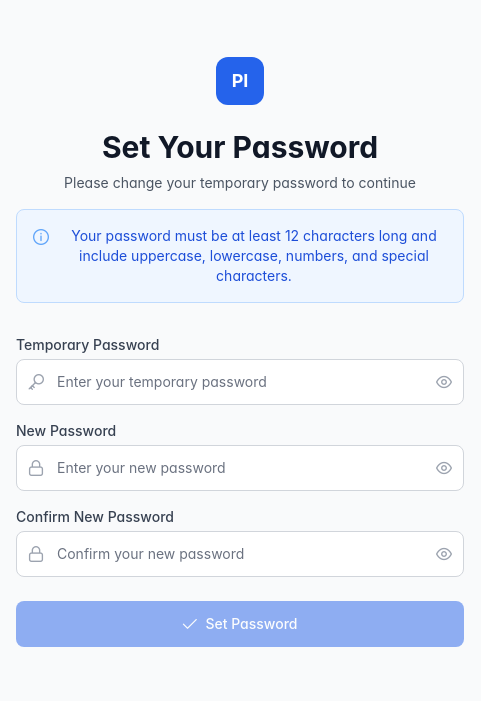
Scenario: SetPasswordView › Form Validation › should show error when passwords do not match
Type "NewPassword123!@#" into the password field with id "newPassword" at point(240, 468), box [16,445,464,491]
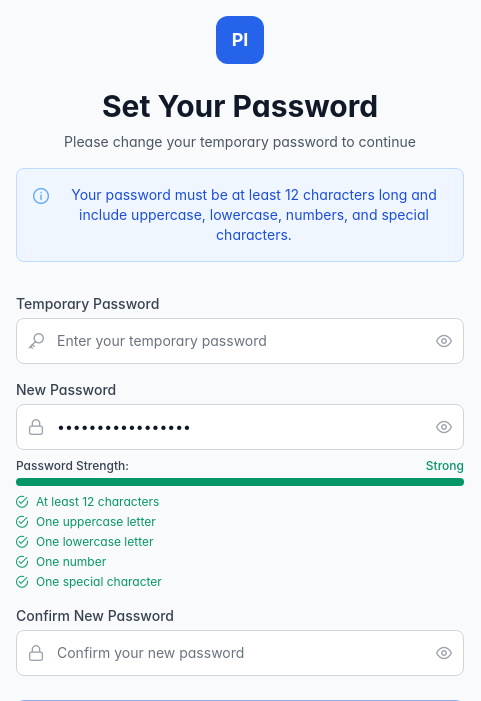
Type "DifferentPassword123!@#" into the password field with id "confirmPassword" at point(240, 653), box [16,630,464,676]
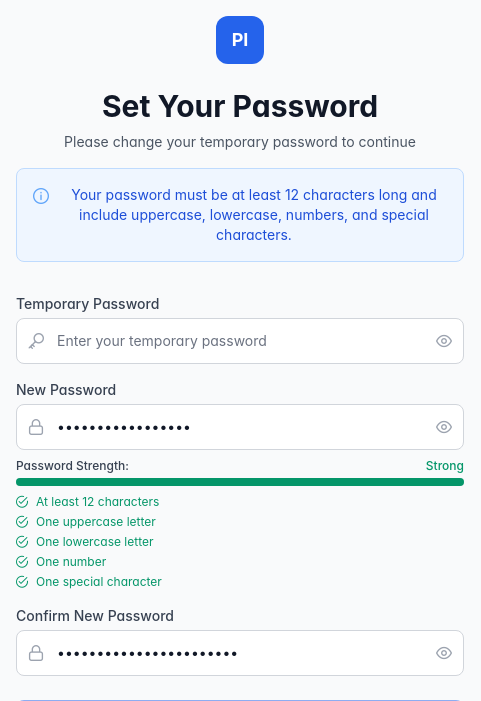
Leave the password field with id "confirmPassword", box [16,630,464,676]
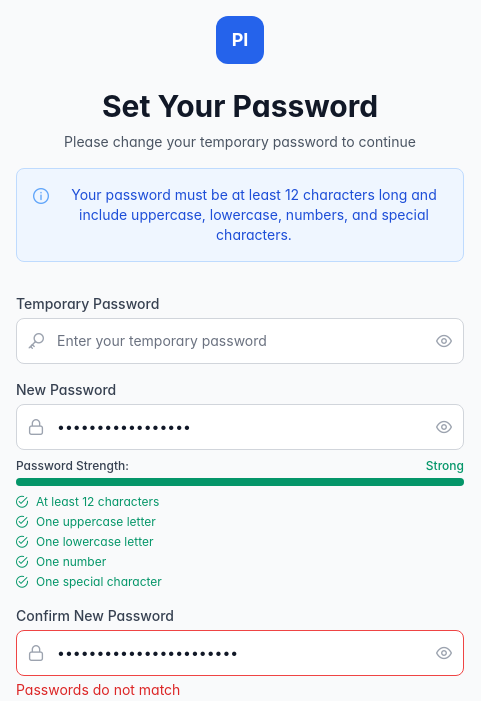
Now the text "Passwords do not match" is shown, box [16,681,180,698]
